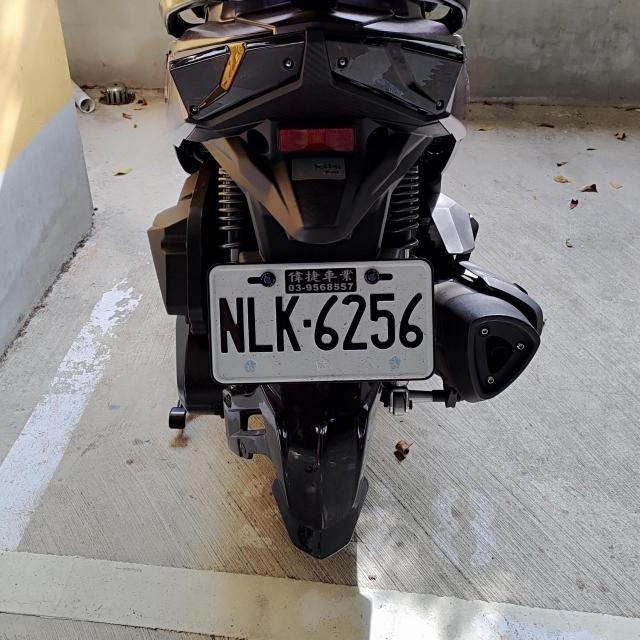W: (205, 258, 432, 382)
